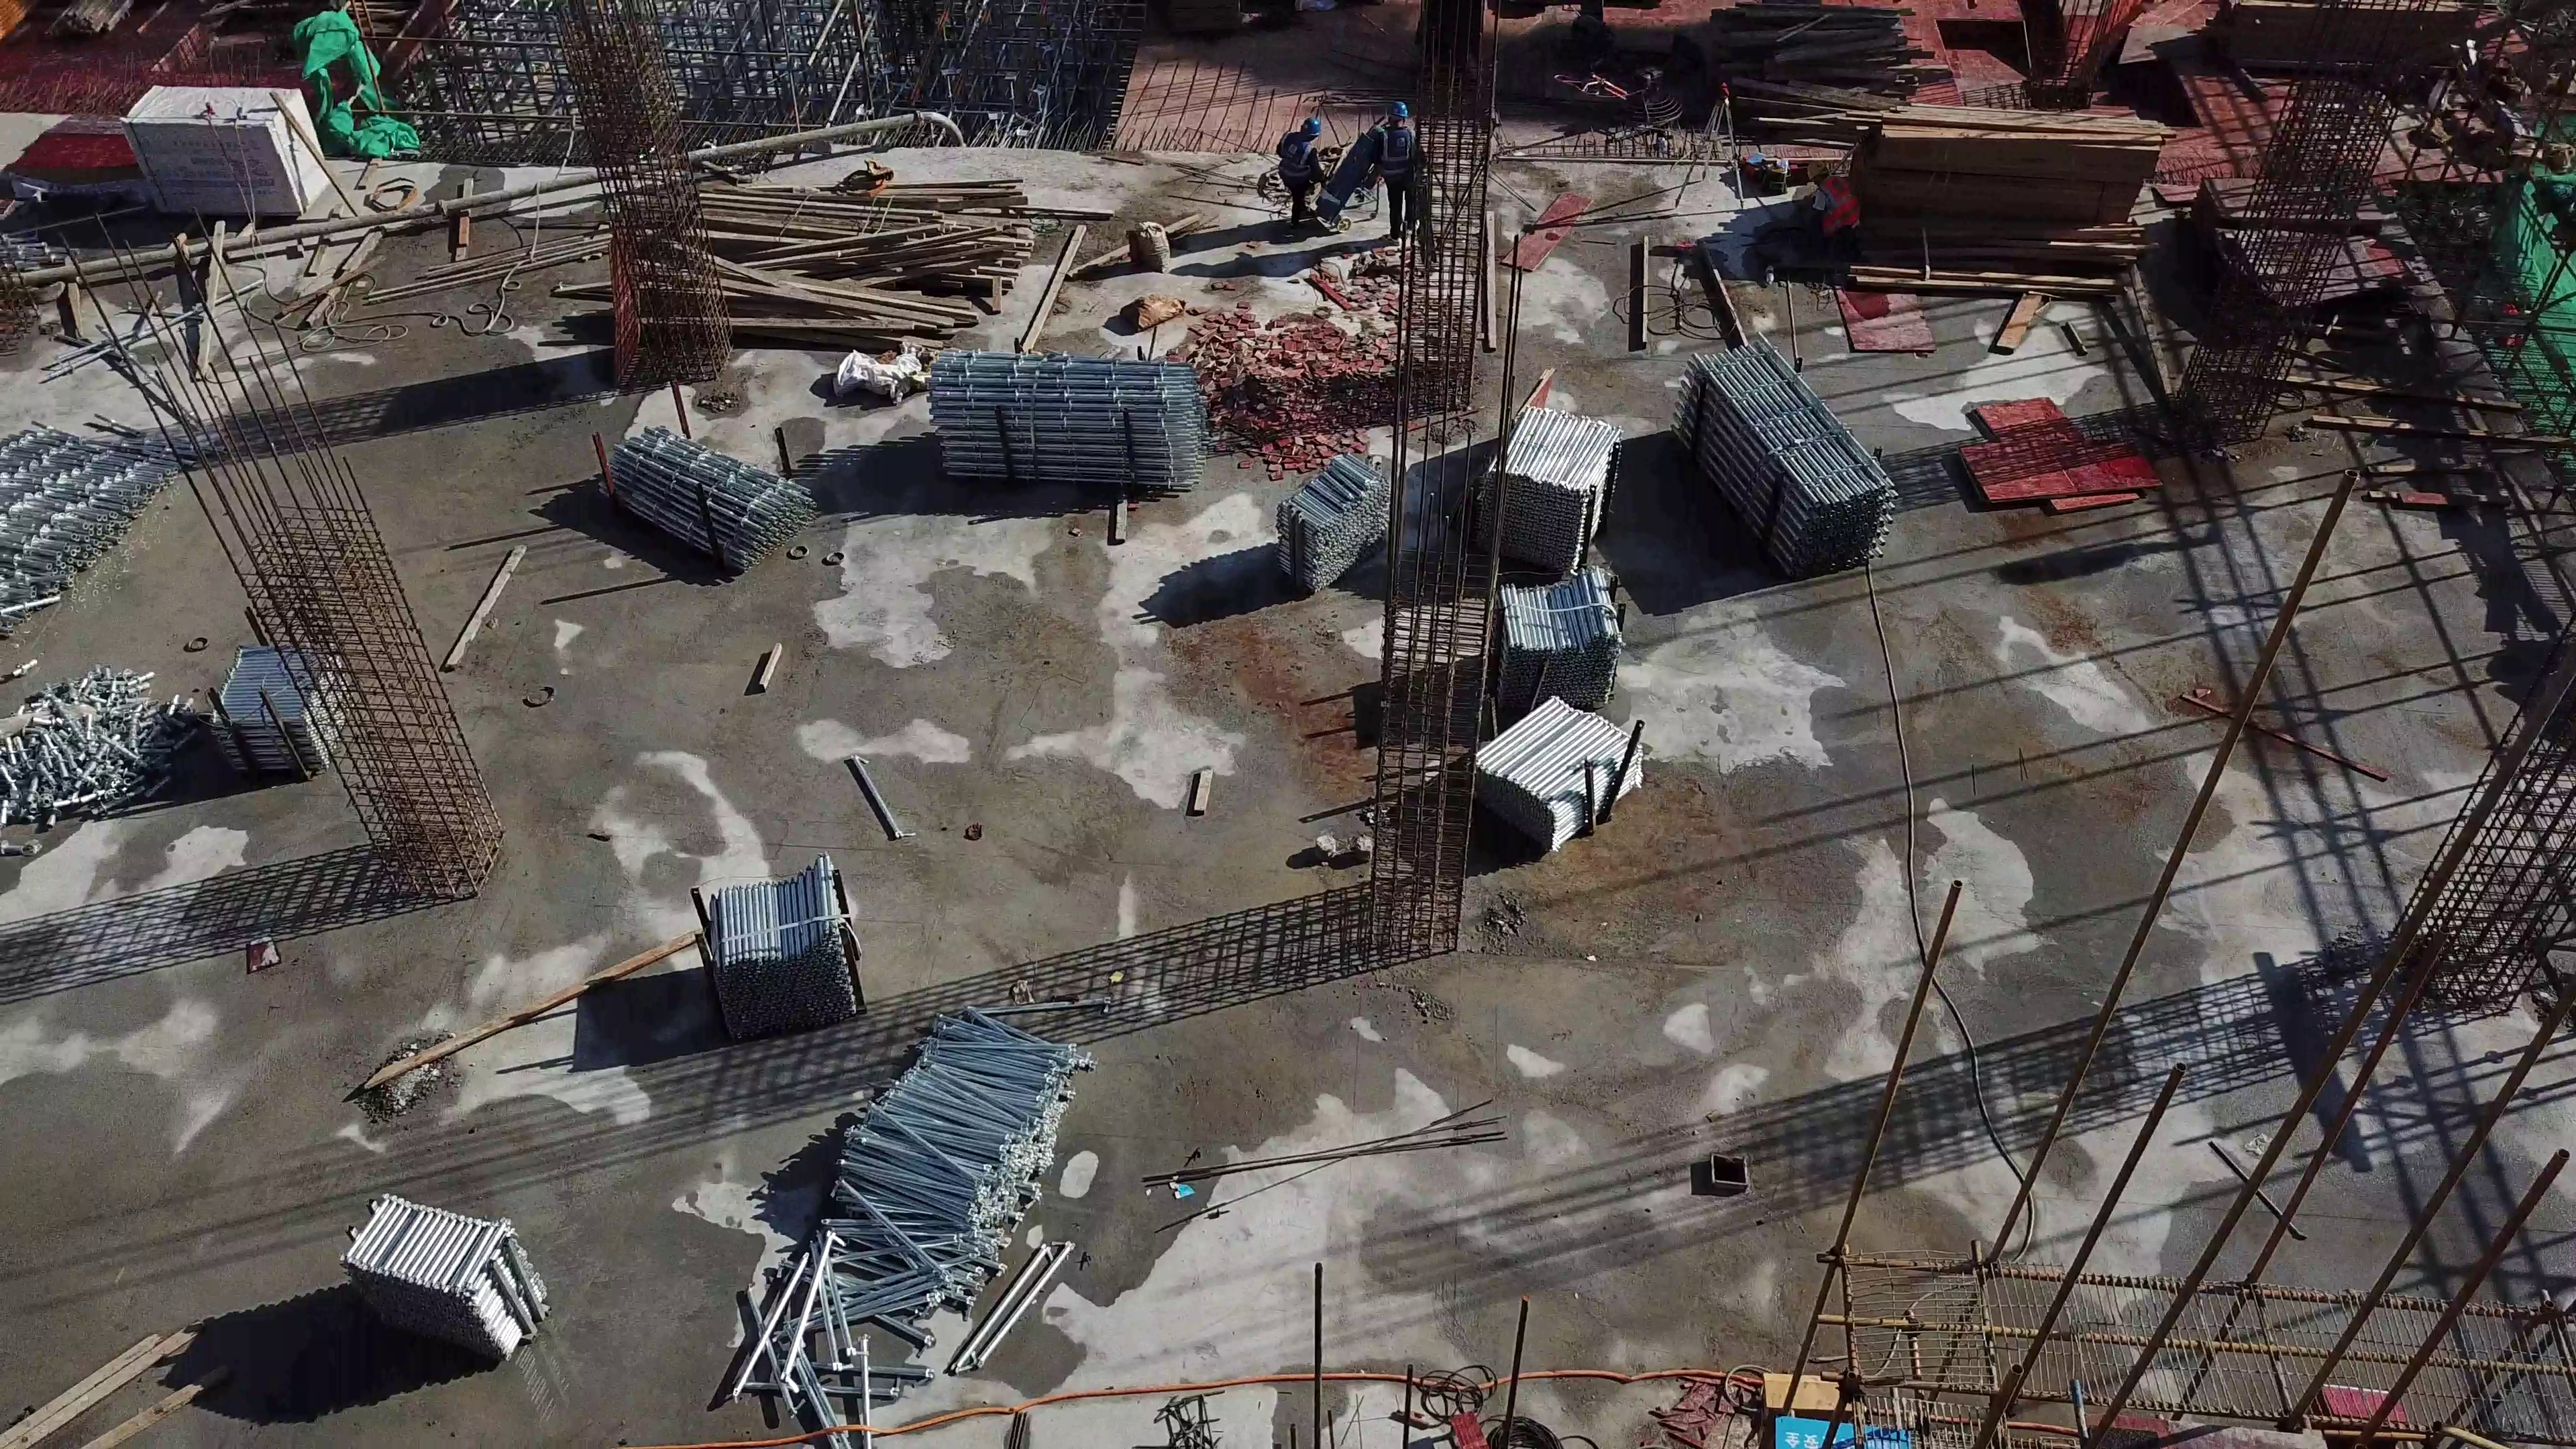board: (1945, 402, 2161, 525), (1834, 282, 1943, 361)
helmet: (1383, 100, 1410, 118), (1801, 159, 1828, 178), (1302, 117, 1323, 140)
person: (1376, 105, 1426, 243), (1801, 157, 1864, 258), (1270, 113, 1320, 225)
scaffold: (750, 1046, 1113, 1400), (1684, 345, 1900, 595), (912, 341, 1214, 511), (1, 392, 199, 627), (586, 421, 826, 582), (341, 1187, 549, 1373), (1, 653, 203, 798), (1462, 692, 1629, 836), (696, 877, 865, 1018), (1263, 452, 1414, 606), (1483, 561, 1643, 702), (1483, 397, 1608, 561), (211, 640, 347, 775)
vest: (1816, 178, 1862, 239), (1374, 127, 1411, 178), (1276, 132, 1310, 180)
wood: (1869, 101, 2169, 280), (718, 191, 984, 333), (1719, 9, 1925, 113)
